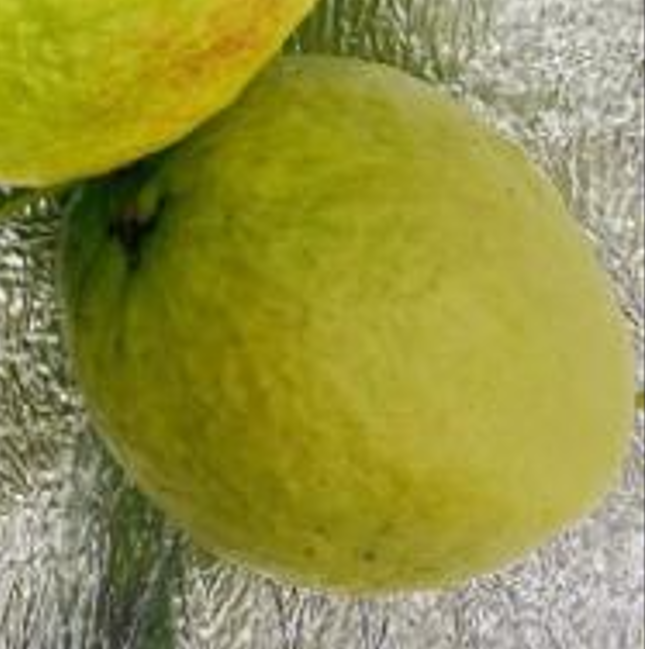guava_A: (54, 50, 637, 594)
